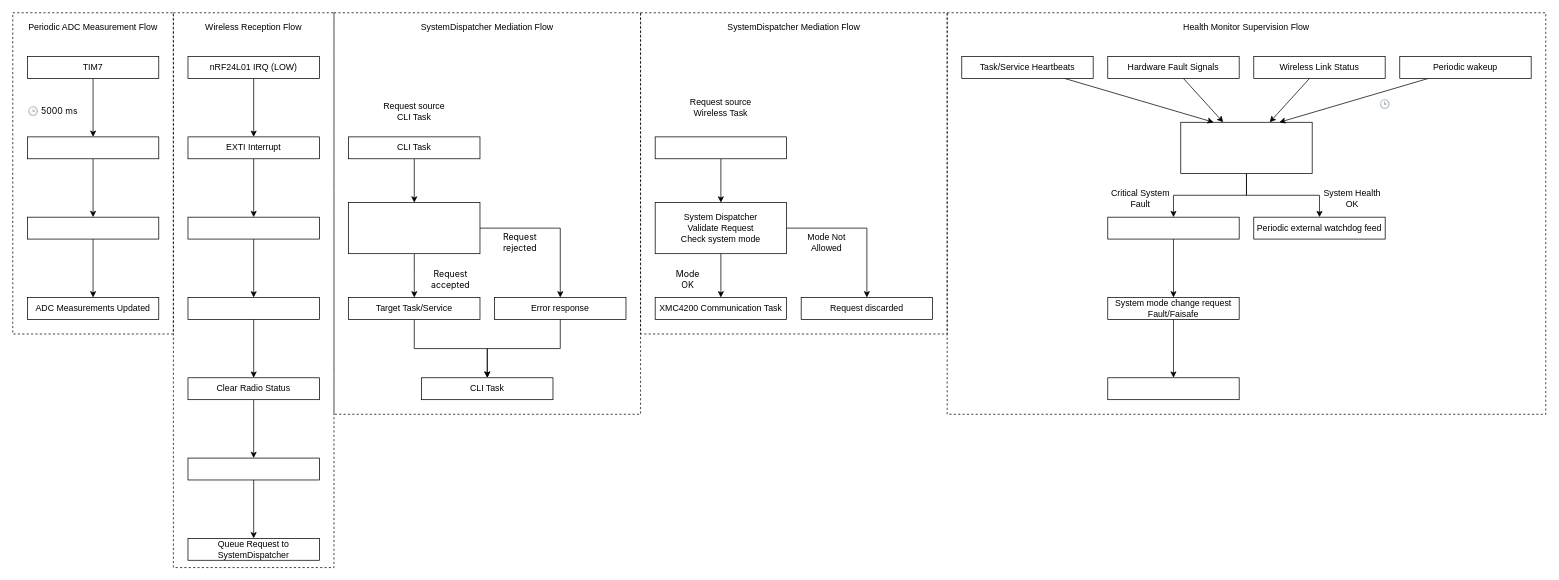
This 1559x580 diagram has some shape labels left out. The centre of each missing label's shape, as x and y in pixels:
"ADC" goes at point 93,147.
"Build Control Request" goes at point 253,468.
"DMA" goes at point 93,227.
"Health Monitor Evaluate Health Evaluate Safety" goes at point 1246,147.
"Power Electronics Disable" goes at point 1173,227.
"Read RX Payload SPI + DMA" goes at point 253,308.
"System Dispatcher" goes at point 1173,388.
"System Dispatcher Validate Request Check system mode Route to task/service" goes at point 414,228.
"Wake Wireless Task" goes at point 253,227.
"Wireless Task" goes at point 720,147.
